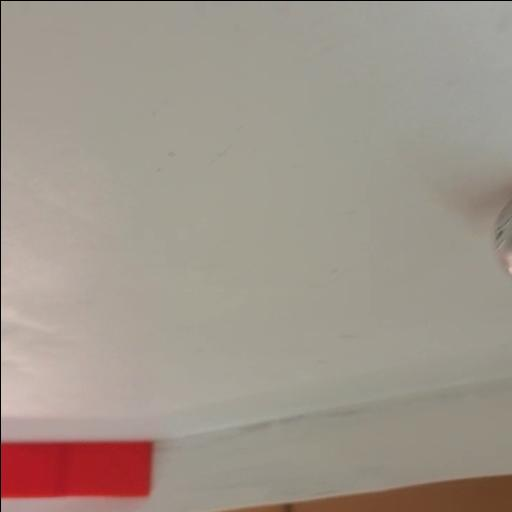alive: (493, 182, 512, 286)
